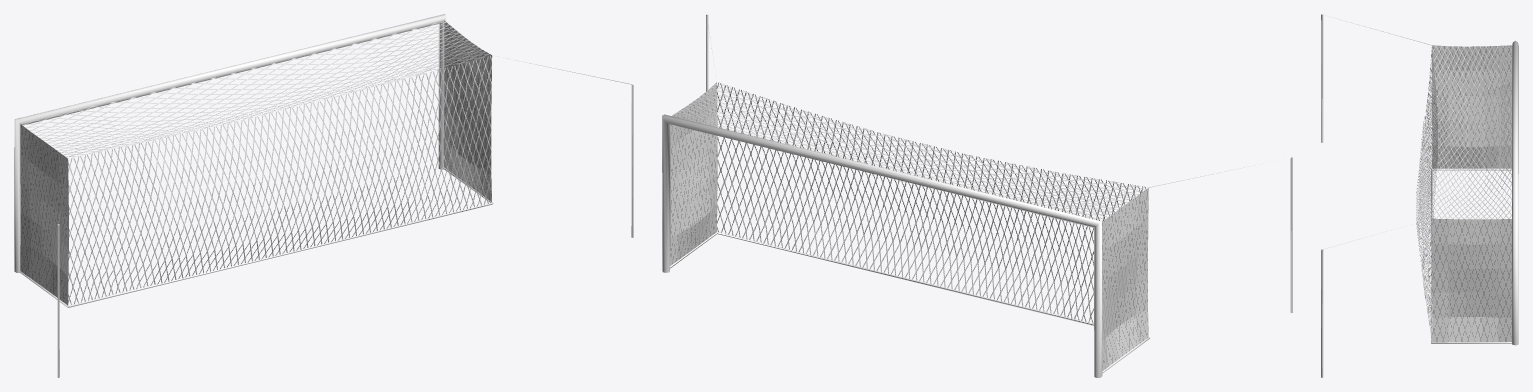
The model's file is soccerGoalPhysics.obj.
3 renders of one model, left to right at view 1: azimuth 30°, elevation 25°; view 2: azimuth 150°, elevation 25°; view 3: azimuth 270°, elevation 25°, orthographic. The views are drawn at different scales.
Parts seen in each view (by area): view 1: NetCube, soccerGoal; view 2: NetCube, soccerGoal; view 3: NetCube, soccerGoal.
Boxes of the visible parts, x1,y1,x2,y2 form: NetCube: [20, 21, 492, 305]; soccerGoal: [14, 14, 633, 377]; NetCube: [670, 82, 1148, 371]; soccerGoal: [662, 14, 1292, 377]; NetCube: [1416, 45, 1511, 342]; soccerGoal: [1321, 14, 1518, 377].
Bounding box in the file's own units: 10.11 × 2.62 × 3.58.
